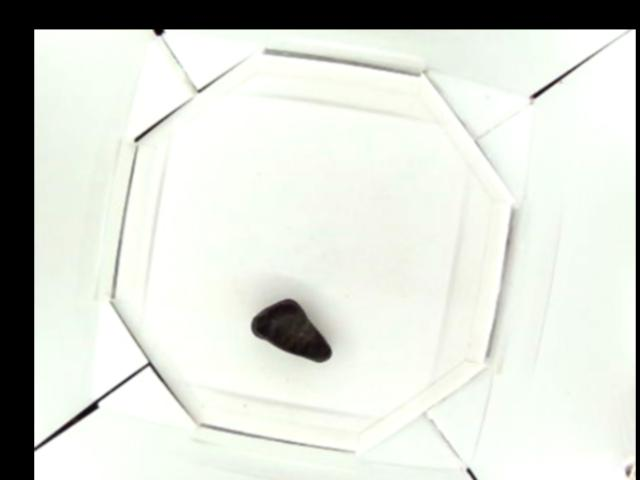Pebble: (249, 298, 333, 363)
